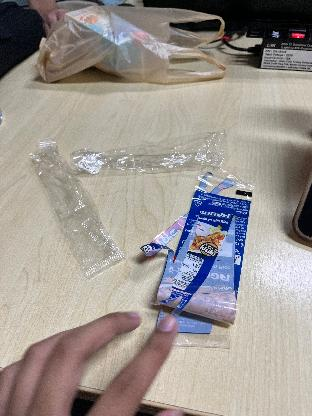Others: (149, 171, 259, 348), (18, 141, 130, 273), (75, 132, 234, 180)
